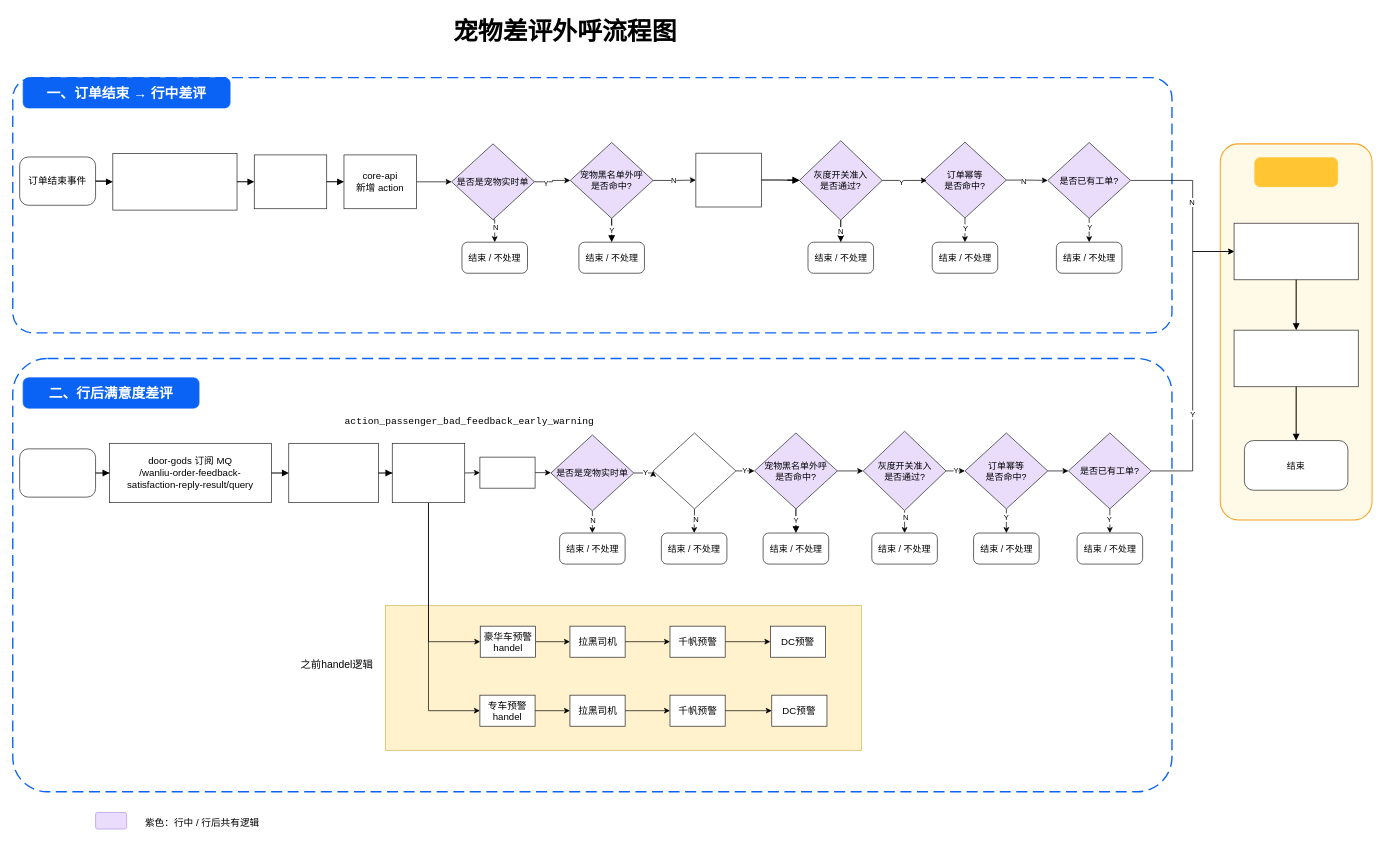
Some shapes in this 1384 by 845 pixel diagram are drawn without their labels. The centre of each missing label's shape, as x and y in pixels:
"core-api 订单品类？" belongs at (428,473).
"door 新增品类开量 （添加宠物快车）" belongs at (333,473).
"door 新增异步策略" belongs at (290,181).
"door-gods 订阅 MQ /wanliu-order-finished- common/query" belongs at (174,181).
"创建外呼工单 调用千帆工单系统创建工单" belongs at (1295,251).
"后续处理" belongs at (1296,172).
"宠物快车handel" belongs at (507,472).
"客服外呼 客服在 15 分钟内完成外呼委托" belongs at (1295,358).
"行后满意度 差评事件" belongs at (57,472).
"评价时间<=7" belongs at (694,470).
"调用 iapetos 评价系统" belongs at (728,179).
